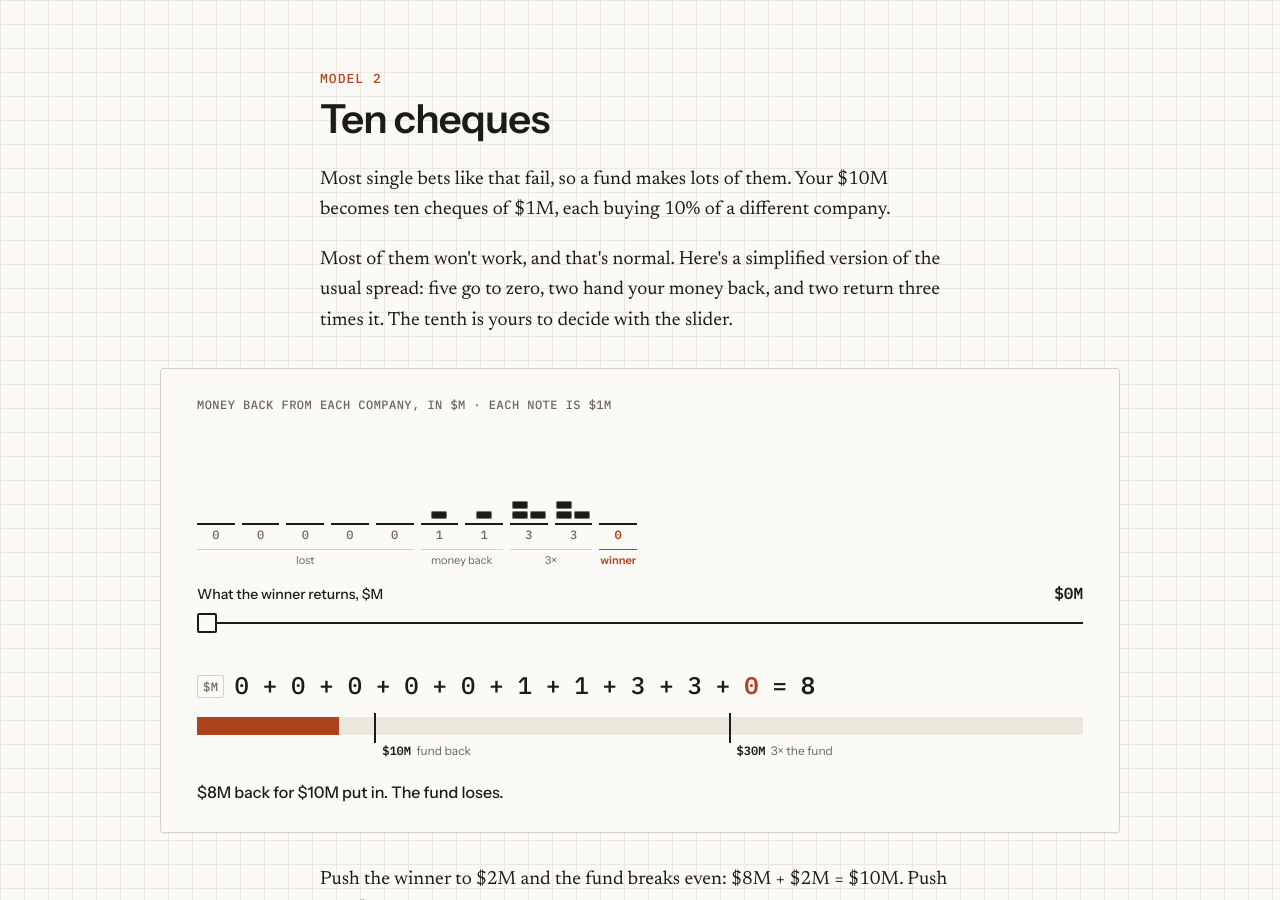
Test: Model 2: ten cheques › triples when the winner returns 22
Set the slider labelled "What the winner returns, $M" to "22": x=684, y=623 [197,609,1083,637]
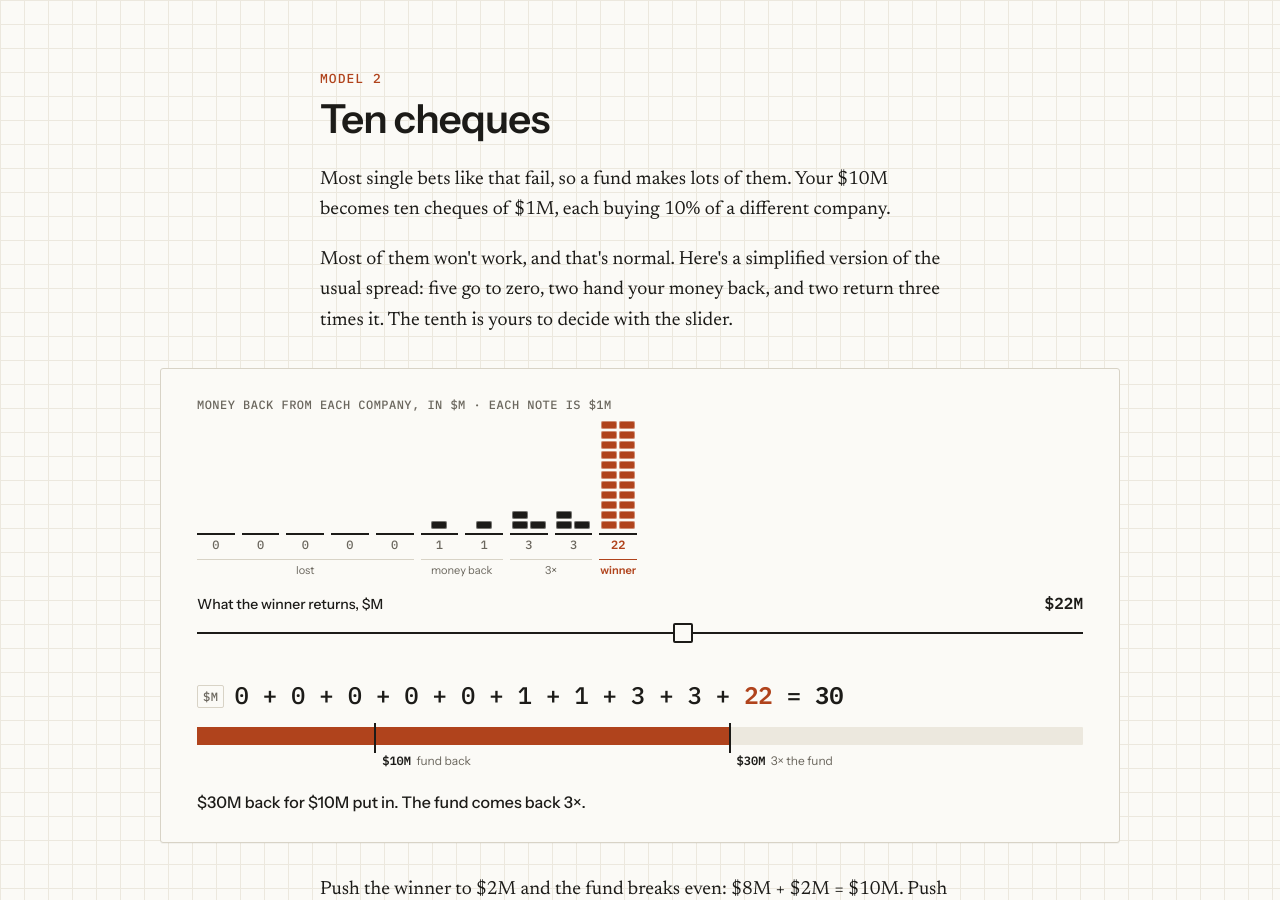
Check: the text with test id "fund-total" reads "30", box [815,679,843,711]
Check: the text "$30M back for $10M put in. The fund comes back 3×." is shown, box [197,792,586,812]
